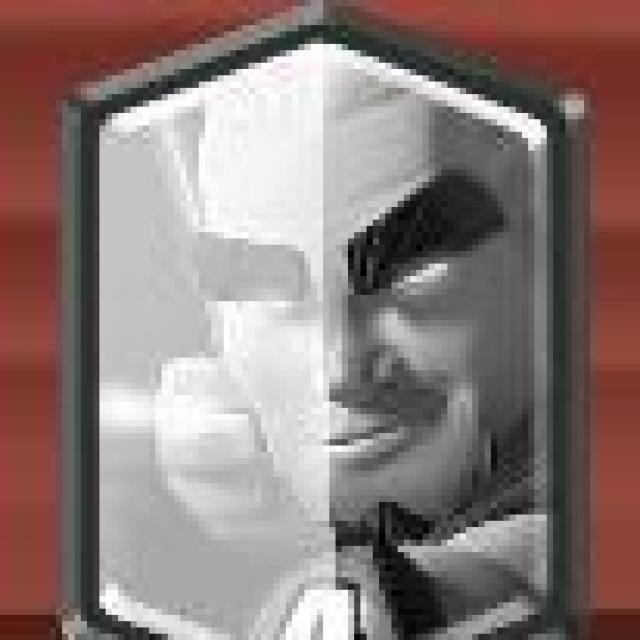Magic_Archer: (77, 12, 578, 640)
